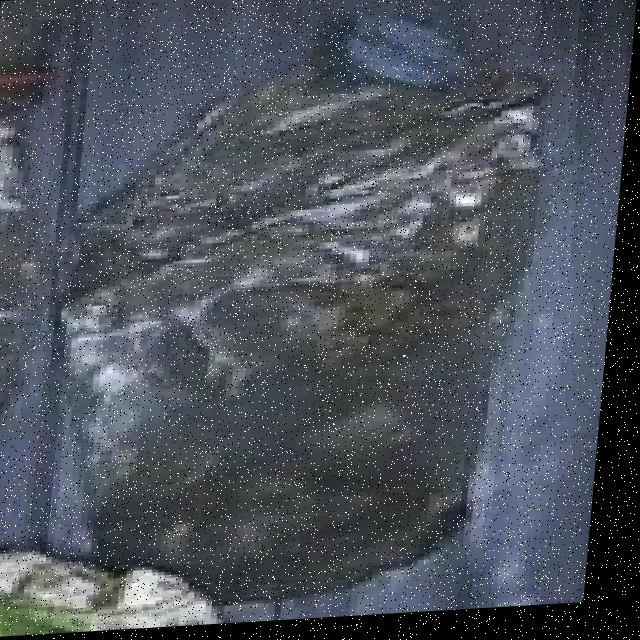litter: (304, 0, 497, 99)
